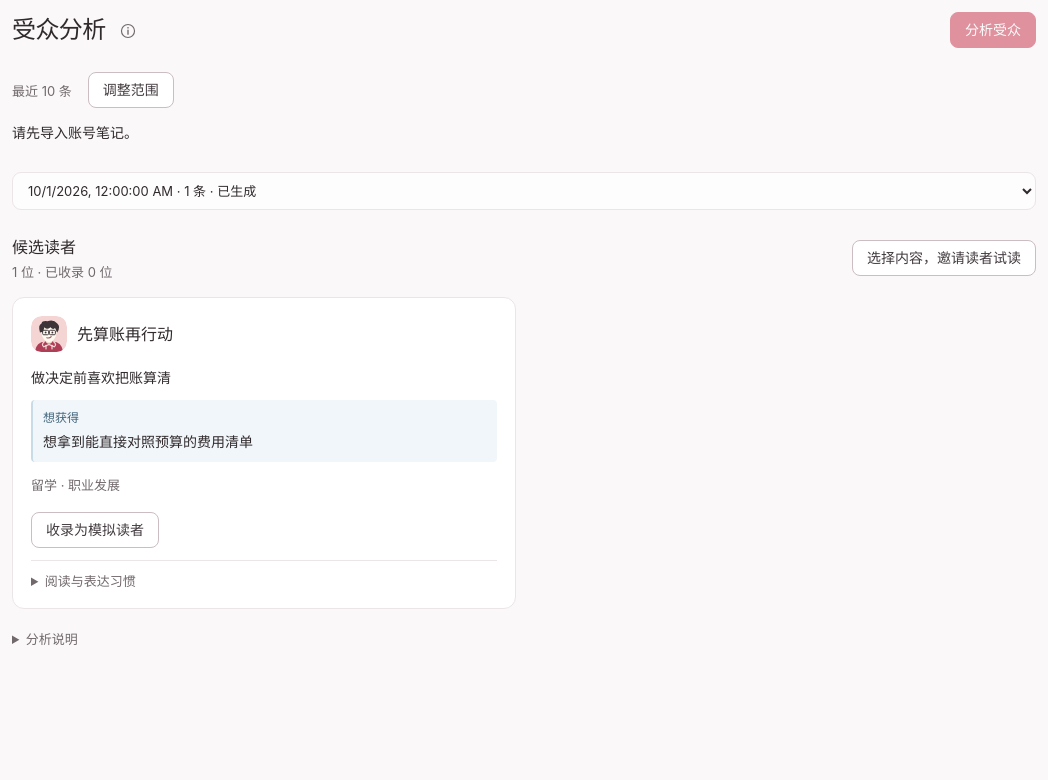
separates broad interests from a concrete need and expression style
Check: the text "留学 · 职业发展" is shown, box [31,477,120,493]
Click the heading "阅读与表达习惯": (83, 581) [31,571,136,590]
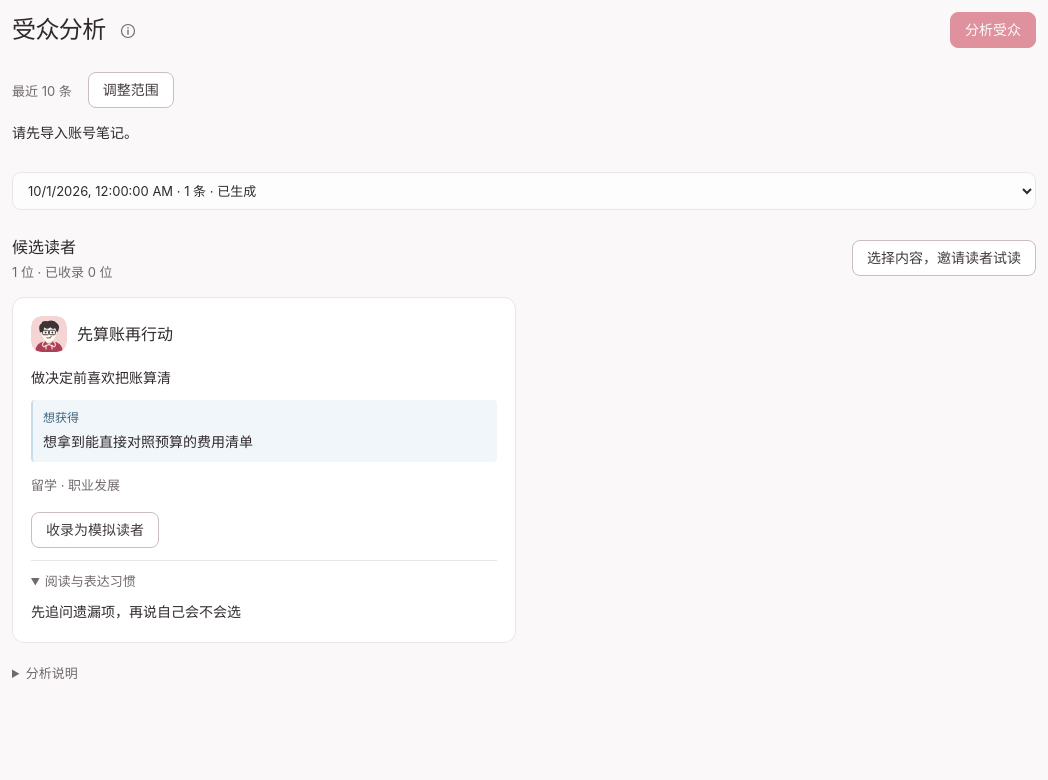
Check: the text "先追问遗漏项，再说自己会不会选" is shown, box [31,603,241,620]
